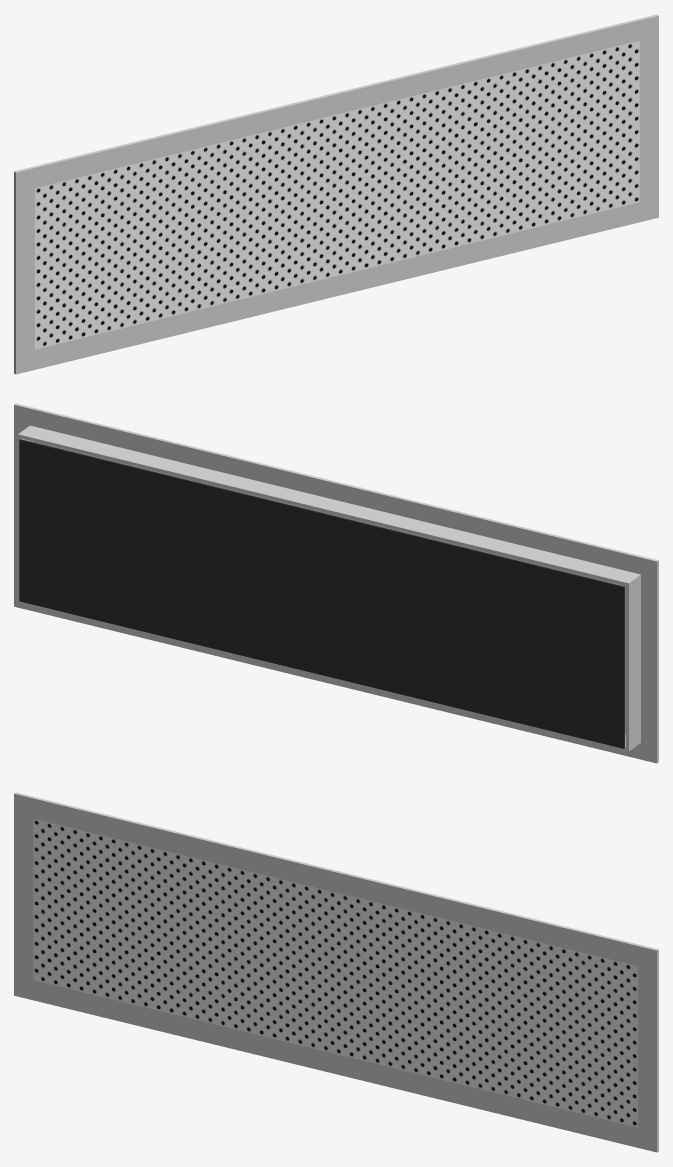
The model's file is ecoclima-eagf-400x120.glb.
The picture shows the model from 3 angles, top to bottom: view 1: azimuth 30°, elevation 25°; view 2: azimuth 150°, elevation 25°; view 3: azimuth 330°, elevation 25°; orthographic projection.
Visible parts, largest first — view 1: Profile_lamiera_forata.003, Profile_cornice.117, Profile_cornice.118, Profile_cornice.119, Profile_cornice.120; view 2: Interno.034, Profile_cornice.117, Profile_ritorno.128, Profile_cornice.118, Profile_cornice.119, Profile_ritorno.130, Profile_ritorno.129, Profile_lamiera_forata.003, Profile_cornice.120; view 3: Profile_lamiera_forata.003, Profile_cornice.117, Profile_cornice.118, Profile_cornice.120, Profile_cornice.119.
Boxes of the visible parts, x1=… form: Profile_lamiera_forata.003: x1=35, y1=40, x2=639, y2=349; Profile_cornice.117: x1=14, y1=14, x2=658, y2=192; Profile_cornice.118: x1=14, y1=197, x2=658, y2=374; Profile_cornice.119: x1=14, y1=188, x2=34, y2=354; Profile_cornice.120: x1=639, y1=36, x2=658, y2=201; Interno.034: x1=19, y1=439, x2=624, y2=748; Profile_cornice.117: x1=14, y1=403, x2=658, y2=581; Profile_ritorno.128: x1=18, y1=425, x2=640, y2=586; Profile_cornice.118: x1=14, y1=586, x2=658, y2=763; Profile_cornice.119: x1=641, y1=578, x2=658, y2=743; Profile_ritorno.130: x1=625, y1=578, x2=640, y2=748; Profile_ritorno.129: x1=18, y1=599, x2=640, y2=751; Profile_lamiera_forata.003: x1=34, y1=441, x2=625, y2=734; Profile_cornice.120: x1=14, y1=425, x2=33, y2=587; Profile_lamiera_forata.003: x1=33, y1=818, x2=637, y2=1127; Profile_cornice.117: x1=14, y1=792, x2=658, y2=970; Profile_cornice.118: x1=14, y1=975, x2=658, y2=1152; Profile_cornice.120: x1=638, y1=966, x2=658, y2=1132; Profile_cornice.119: x1=14, y1=814, x2=33, y2=979.
Size of the model in its own units: 0.4 by 0.12 by 0.017.
3 materials, 1 textured.
